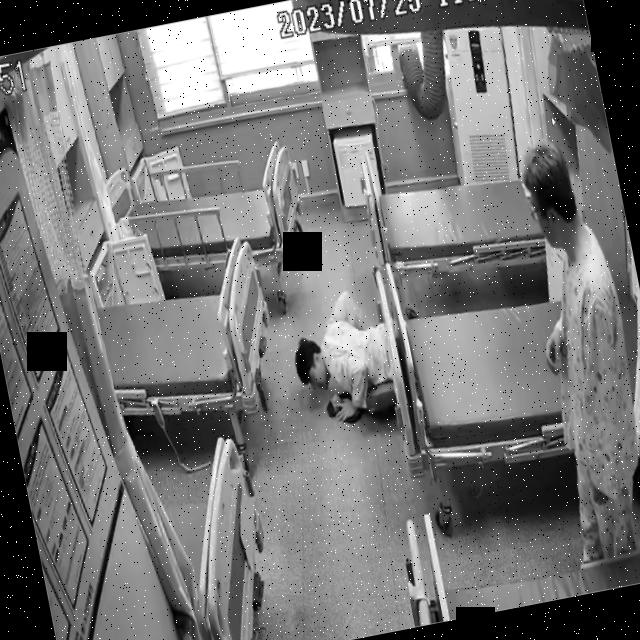bed: (367, 217, 640, 484), (354, 109, 566, 298), (92, 238, 286, 432), (122, 145, 308, 290)
fall: (284, 281, 416, 430)
patient: (502, 143, 640, 562), (282, 280, 420, 432)
stand: (503, 145, 640, 562)
